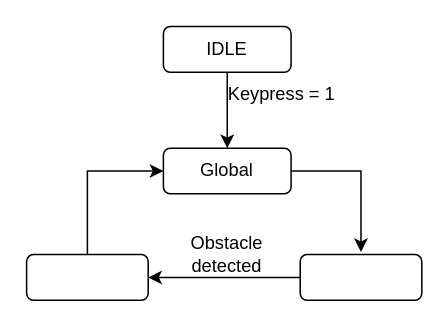
Image size: 448x327. Some labels were removed from this diagram. Here are the shapes that lost their labels. From the top down, the centre of each, then its label:
the point at 86,276: Avoid
the point at 360,276: Local
